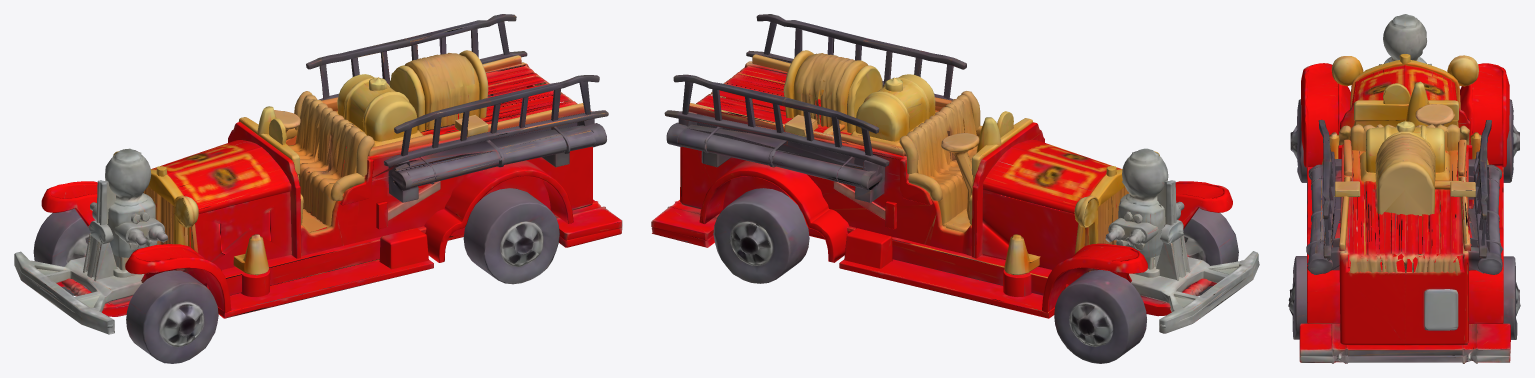
File: fire_truck_no5.glb
The picture shows the model from 3 angles, left to right: view 1: azimuth 30°, elevation 25°; view 2: azimuth 150°, elevation 25°; view 3: azimuth 270°, elevation 25°; orthographic projection. The views are drawn at different scales.
Bounding box in the file's own units: 0.9561 × 0.332 × 0.3872.
Materials: 1 (1 with a texture image).
